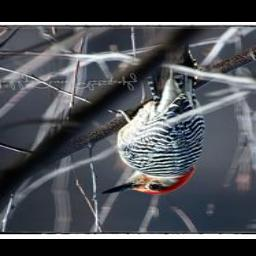Woodpecker: (94, 69, 211, 202)
